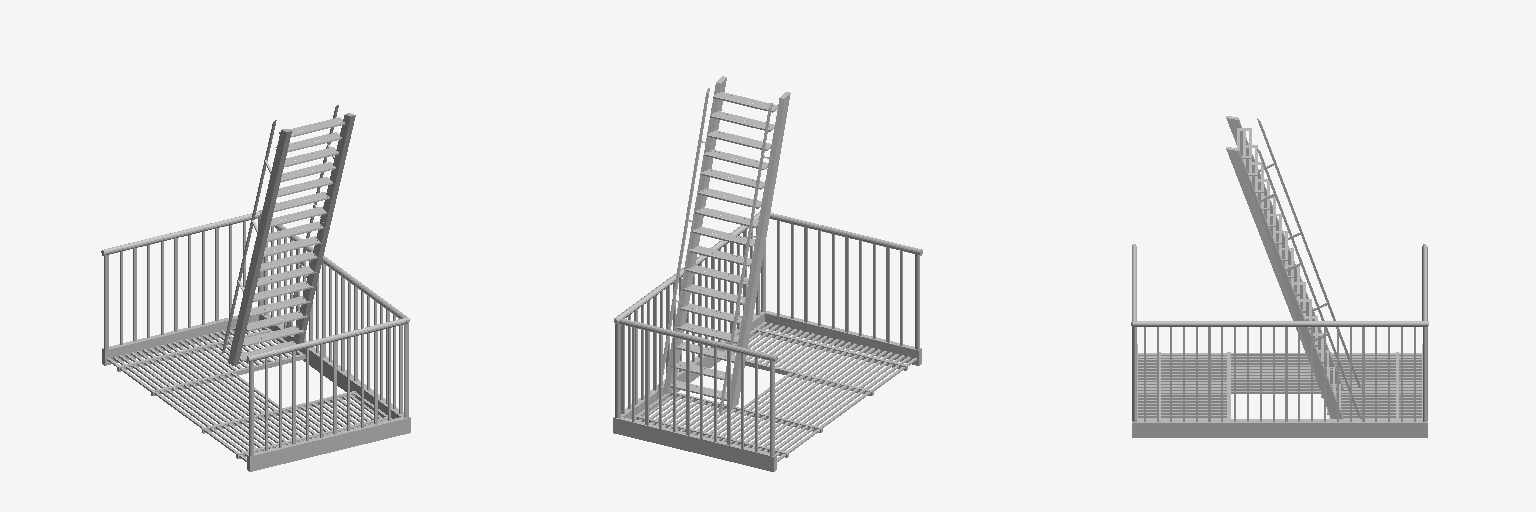
The model's file is balcony 1.obj.
3 views of the same model, side by side, from view 1: azimuth 30°, elevation 25°; view 2: azimuth 150°, elevation 25°; view 3: azimuth 270°, elevation 25° (orthographic).
Parts seen in each view (by area): view 1: stair_Cube.051, Cube.018_Cube.032, Cube.022_Cube.036, Cube.019_Cube.033, Cube.020_Cube.034, Cube.021_Cube.035, Cube.017_Cube.031, Cube.023_Cube.037, Cube.016_Cube.030, Cube.015_Cube.029, Cylinder.012_Cylinder.019, Cylinder.013_Cylinder.020 (+2 smaller); view 2: stair_Cube.051, Cube.021_Cube.035, Cube.018_Cube.032, Cube.019_Cube.033, Cube.020_Cube.034, Cube.022_Cube.036, Cube.016_Cube.030, Cube.023_Cube.037, Cube.017_Cube.031, Cube.015_Cube.029, Cylinder.013_Cylinder.020, Cylinder.012_Cylinder.019 (+3 smaller); view 3: stair_Cube.051, Cube.015_Cube.029, Cube.021_Cube.035, Cube.018_Cube.032, Cube.022_Cube.036, Cube.023_Cube.037, Cylinder.011_Cylinder.018.
Part boxes in pixels (x1,y1,x2,y2): stair_Cube.051: (221,105,355,365); Cube.018_Cube.032: (264,227,402,413); Cube.022_Cube.036: (107,327,302,391); Cube.019_Cube.033: (265,328,390,450); Cube.020_Cube.034: (120,221,245,344); Cube.021_Cube.035: (204,393,391,461); Cube.017_Cube.031: (247,417,403,471); Cube.023_Cube.037: (154,373,278,428); Cube.016_Cube.030: (102,315,258,365); Cube.015_Cube.029: (259,313,410,434); Cylinder.012_Cylinder.019: (247,318,406,361); Cylinder.013_Cylinder.020: (101,212,260,255); stair_Cube.051: (656,76,790,414); Cube.021_Cube.035: (724,322,916,390); Cube.018_Cube.032: (621,226,759,413); Cube.019_Cube.033: (777,218,902,345); Cube.020_Cube.034: (632,326,757,451); Cube.022_Cube.036: (635,393,819,461); Cube.016_Cube.030: (620,417,776,471); Cube.023_Cube.037: (744,372,870,427); Cube.017_Cube.031: (765,311,921,365); Cube.015_Cube.029: (613,310,766,434); Cylinder.013_Cylinder.020: (619,318,777,361); Cylinder.012_Cylinder.019: (770,213,922,255); stair_Cube.051: (1226,116,1361,418); Cube.015_Cube.029: (1132,419,1427,437); Cube.021_Cube.035: (1138,353,1226,418); Cube.018_Cube.032: (1144,327,1415,421); Cube.022_Cube.036: (1332,353,1421,418); Cube.023_Cube.037: (1231,353,1320,393); Cylinder.011_Cylinder.018: (1131,321,1428,326).
Bounding box in the file's own units: 1.25 × 2.11 × 2.